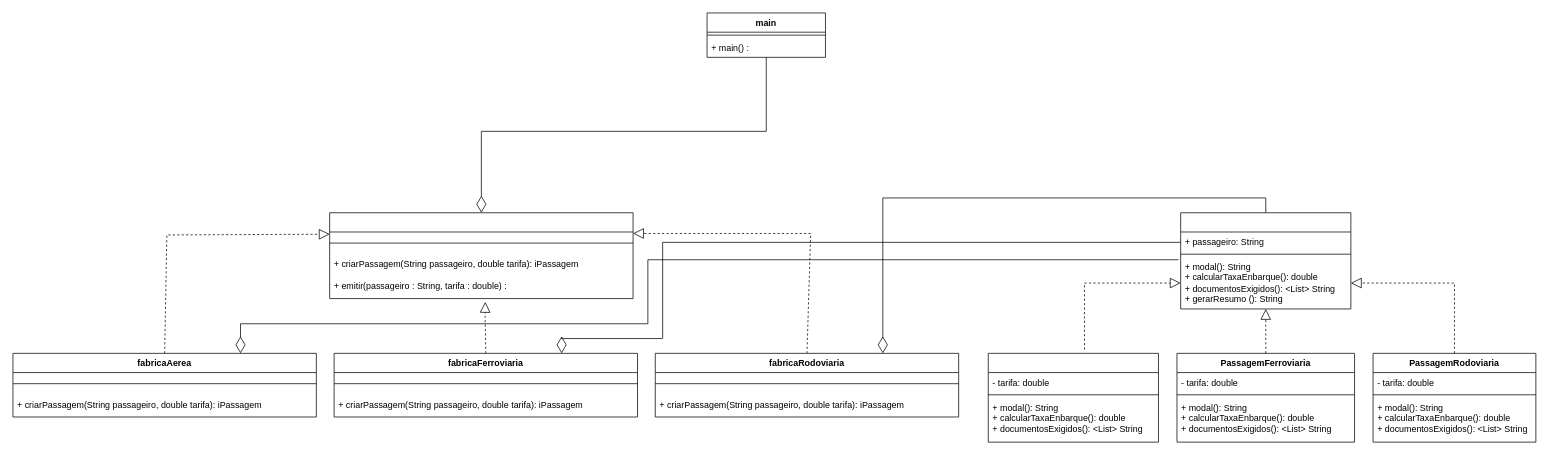
Some shapes in this 1549 by 457 pixel diagram are drawn without their labels. The box of each missing label's shape, as (x1, y1, x2, y2) in pixels:
fabricaPassagem: (329, 212, 633, 299)
iPassagem: (1180, 212, 1351, 309)
PassagemAerea: (988, 353, 1158, 442)
